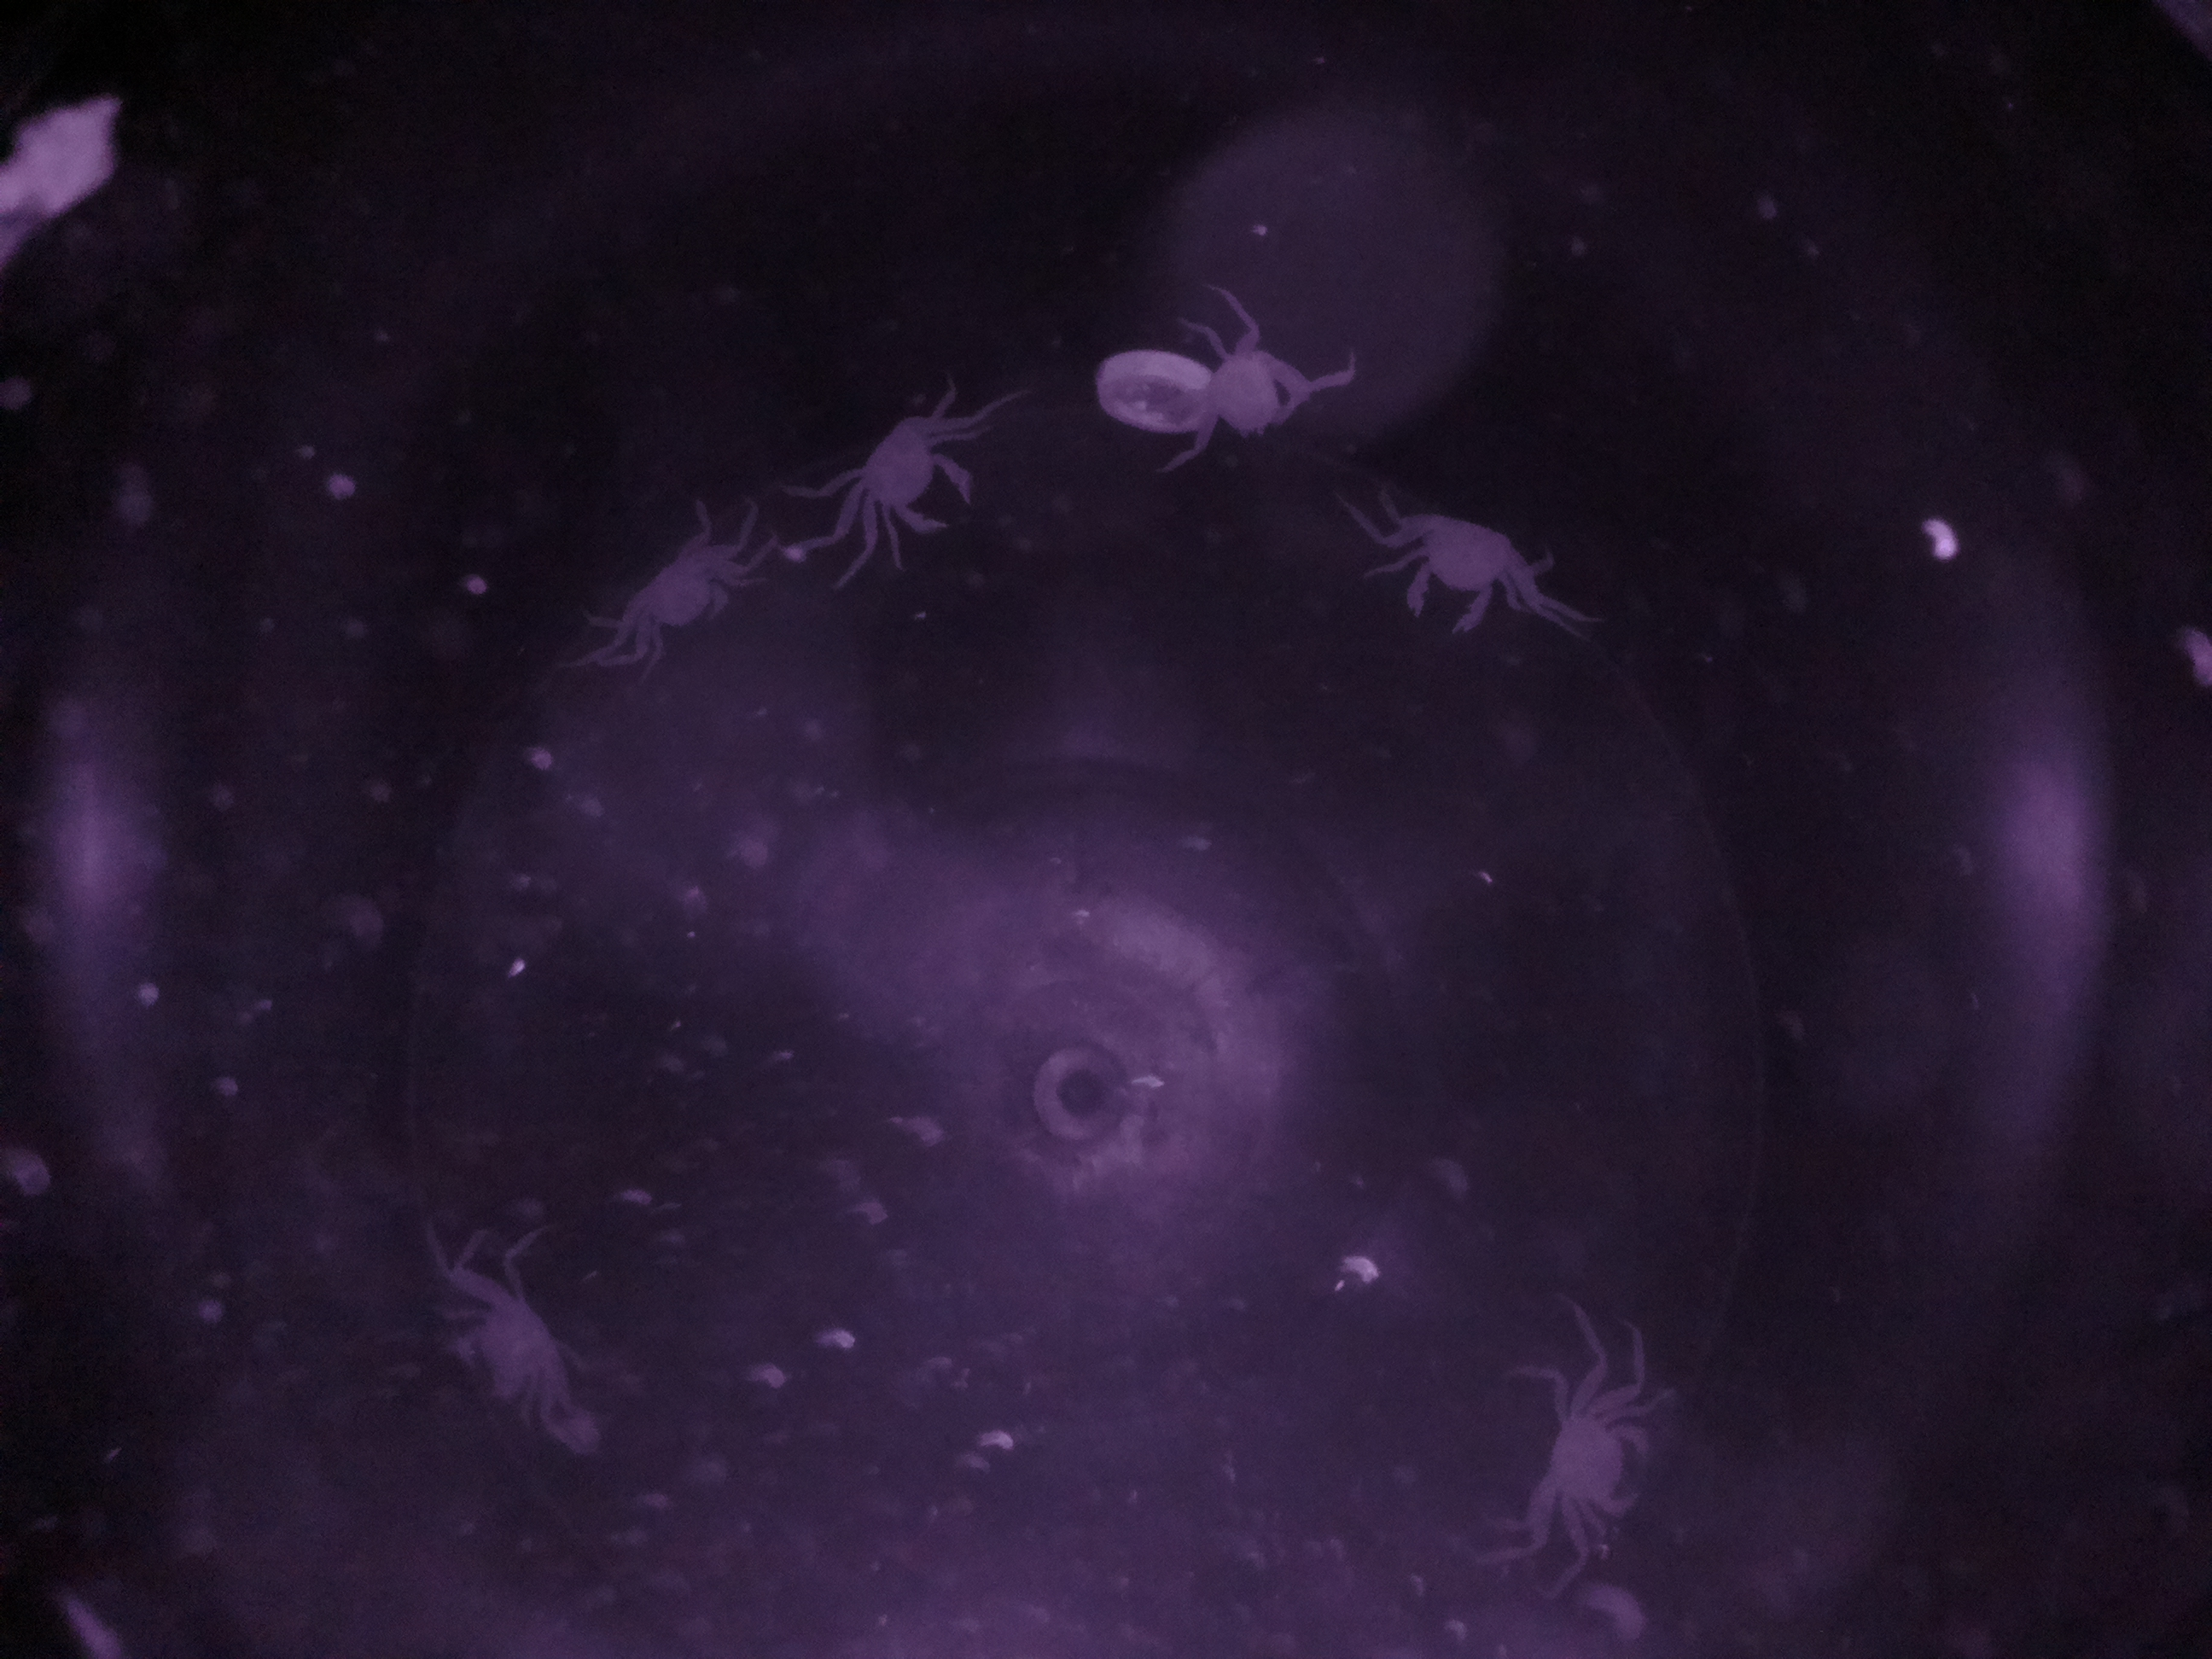Crab: (583, 507, 779, 660), (1355, 474, 1531, 643), (1517, 1366, 1660, 1556), (826, 394, 988, 561)
